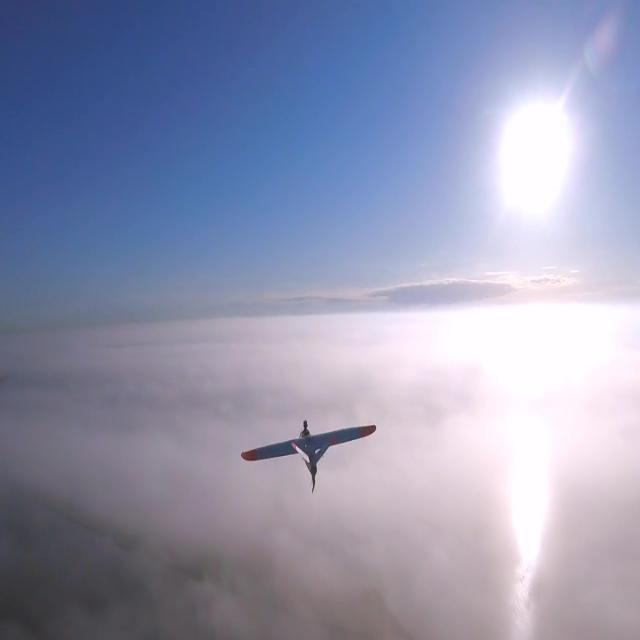iha: (245, 448, 373, 452)
